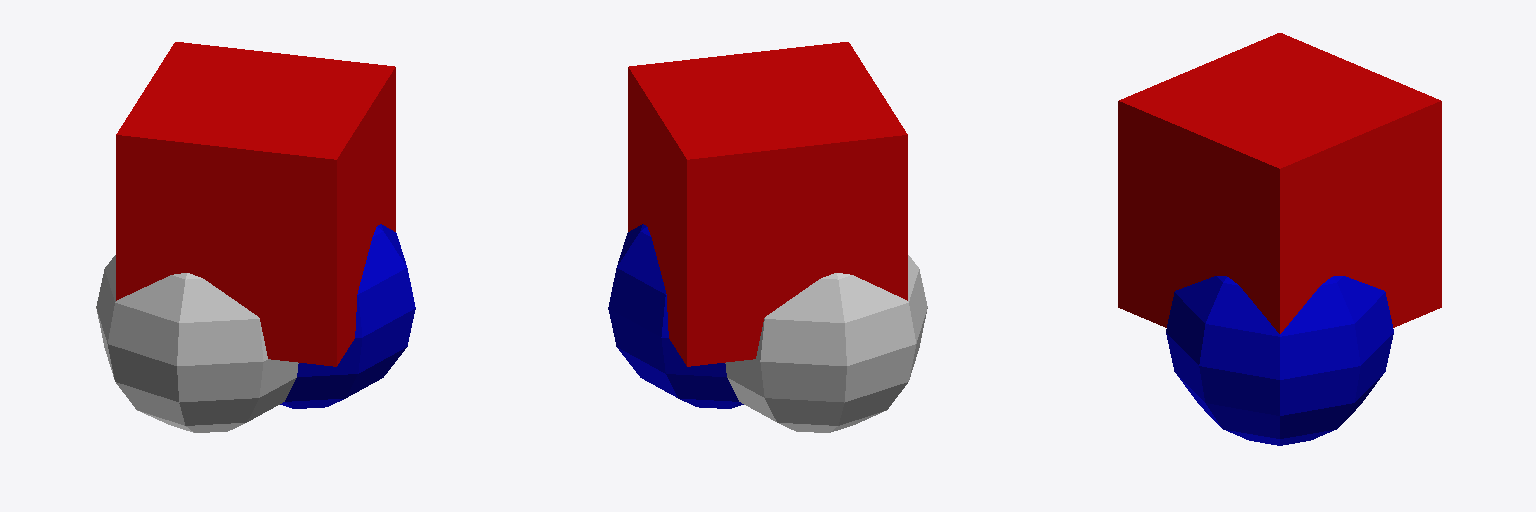
The model's file is triple.obj.
3 views of the same model, side by side, from view 1: azimuth 30°, elevation 25°; view 2: azimuth 150°, elevation 25°; view 3: azimuth 270°, elevation 25° (orthographic).
Parts seen in each view (by area): view 1: Top_Cube.001, Sphere.001, Sphere; view 2: Top_Cube.001, Sphere.001, Sphere; view 3: Top_Cube.001, Sphere.
Part boxes in pixels (x1,y1,x2,y2): Top_Cube.001: (116, 42, 395, 366); Sphere.001: (96, 255, 298, 432); Sphere: (280, 224, 415, 408); Top_Cube.001: (628, 42, 907, 366); Sphere.001: (725, 255, 927, 432); Sphere: (608, 224, 743, 408); Top_Cube.001: (1118, 33, 1441, 333); Sphere: (1166, 276, 1393, 445).
Bounding box in the file's own units: 3 × 3 × 2.83.